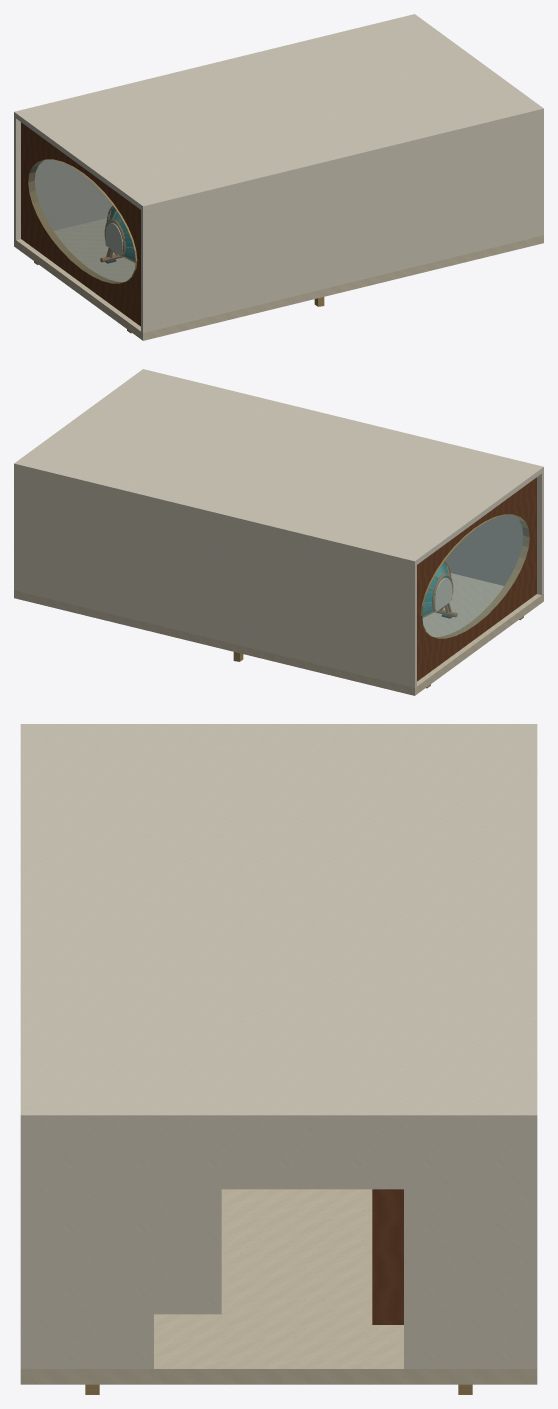
The model's file is NightGardenD15Specialty_440_r002.glb.
3 renders of one model, top to bottom at view 1: azimuth 30°, elevation 25°; view 2: azimuth 150°, elevation 25°; view 3: azimuth 270°, elevation 25°, orthographic. The views are drawn at different scales.
Parts seen in each view (by area): view 1: NG440_RuntimeBatch_001, NG440_OvalAtriumGlass, NG440_RoomFloor, NG440_RuntimeBatch_002, NG440_RuntimeBatch_004, NG440_ReservedRestSupport__Rear ivory acoustic diffuser, NG440_RuntimeBatch_010; view 2: NG440_RuntimeBatch_001, NG440_OvalAtriumGlass, NG440_RoomFloor, NG440_RuntimeBatch_002, NG440_RuntimeBatch_004, NG440_ReservedRestSupport__Rear ivory acoustic diffuser, NG440_RuntimeBatch_010; view 3: NG440_RuntimeBatch_001, NG440_RoomFloor, NG440_RuntimeBatch_002.
Boxes of the visible parts, left/top/right/bottom form: NG440_RuntimeBatch_001: left=14, top=14, right=543, bottom=332; NG440_OvalAtriumGlass: left=28, top=160, right=135, bottom=283; NG440_RoomFloor: left=14, top=218, right=543, bottom=340; NG440_RuntimeBatch_002: left=21, top=122, right=140, bottom=326; NG440_RuntimeBatch_004: left=28, top=159, right=324, bottom=333; NG440_ReservedRestSupport__Rear ivory acoustic diffuser: left=105, top=223, right=123, bottom=257; NG440_RuntimeBatch_010: left=100, top=206, right=135, bottom=262; NG440_RuntimeBatch_001: left=14, top=369, right=543, bottom=687; NG440_OvalAtriumGlass: left=422, top=515, right=529, bottom=638; NG440_RoomFloor: left=14, top=573, right=543, bottom=695; NG440_RuntimeBatch_002: left=417, top=477, right=536, bottom=681; NG440_RuntimeBatch_004: left=233, top=514, right=529, bottom=688; NG440_ReservedRestSupport__Rear ivory acoustic diffuser: left=434, top=578, right=452, bottom=612; NG440_RuntimeBatch_010: left=422, top=561, right=457, bottom=617; NG440_RuntimeBatch_001: left=20, top=724, right=537, bottom=1368; NG440_RoomFloor: left=20, top=1189, right=537, bottom=1384; NG440_RuntimeBatch_002: left=372, top=1189, right=403, bottom=1324.
Bounding box in the file's own units: 12.9 × 4.91 × 7.2.
Materials: 58 (43 with a texture image).
